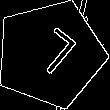L_SW: (21, 25, 79, 83)
